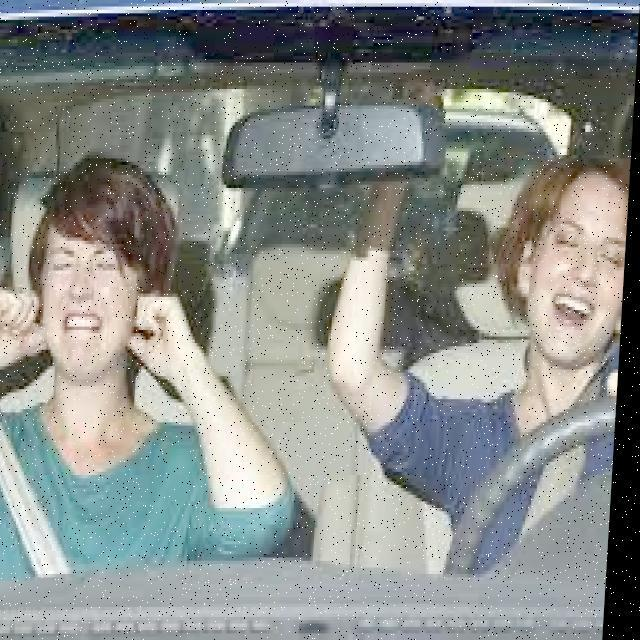seatbelt: (0, 394, 206, 587)
